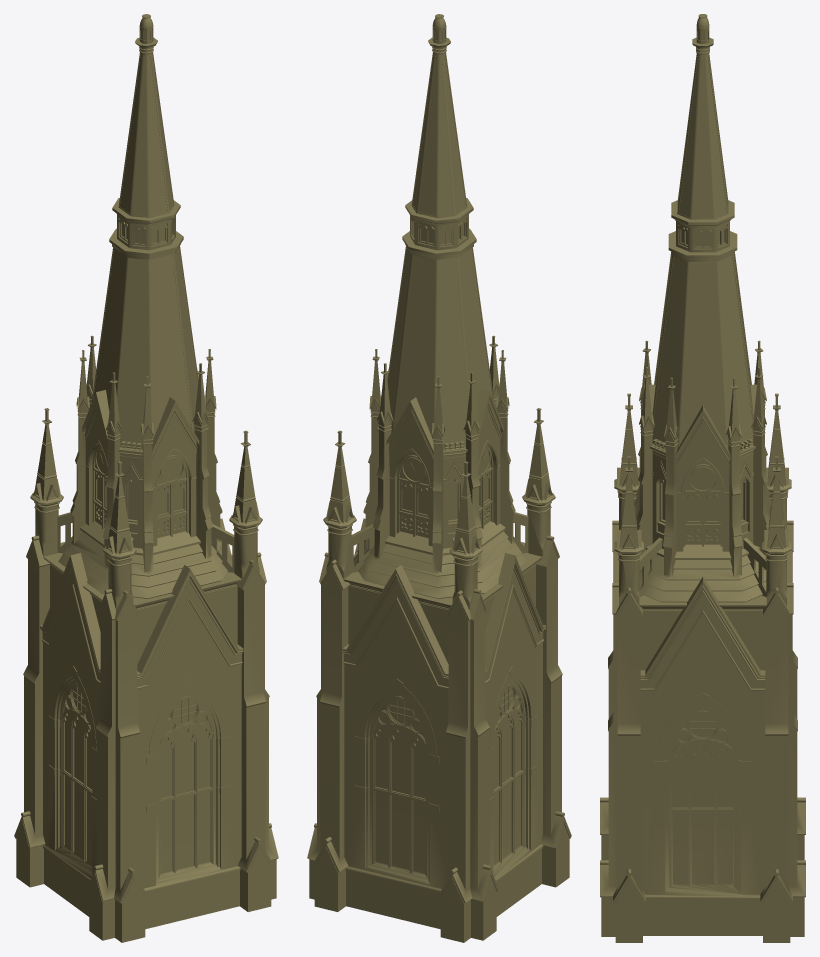
The model's file is basilica_bldg_scene.gltf.
3 views of the same model, side by side, from view 1: azimuth 30°, elevation 25°; view 2: azimuth 150°, elevation 25°; view 3: azimuth 270°, elevation 25° (orthographic).
Parts seen in each view (by area): view 1: Object_2, Object_3; view 2: Object_2, Object_3; view 3: Object_2, Object_3.
Boxes of the visible parts, x1,y1,x2,y2 form: Object_2: (14,14,278,942); Object_3: (15,424,259,929); Object_2: (342,14,571,940); Object_3: (307,430,545,942); Object_2: (600,14,805,942); Object_3: (614,410,805,942).
Size of the model in its own units: 67.58 by 320 by 67.58.
